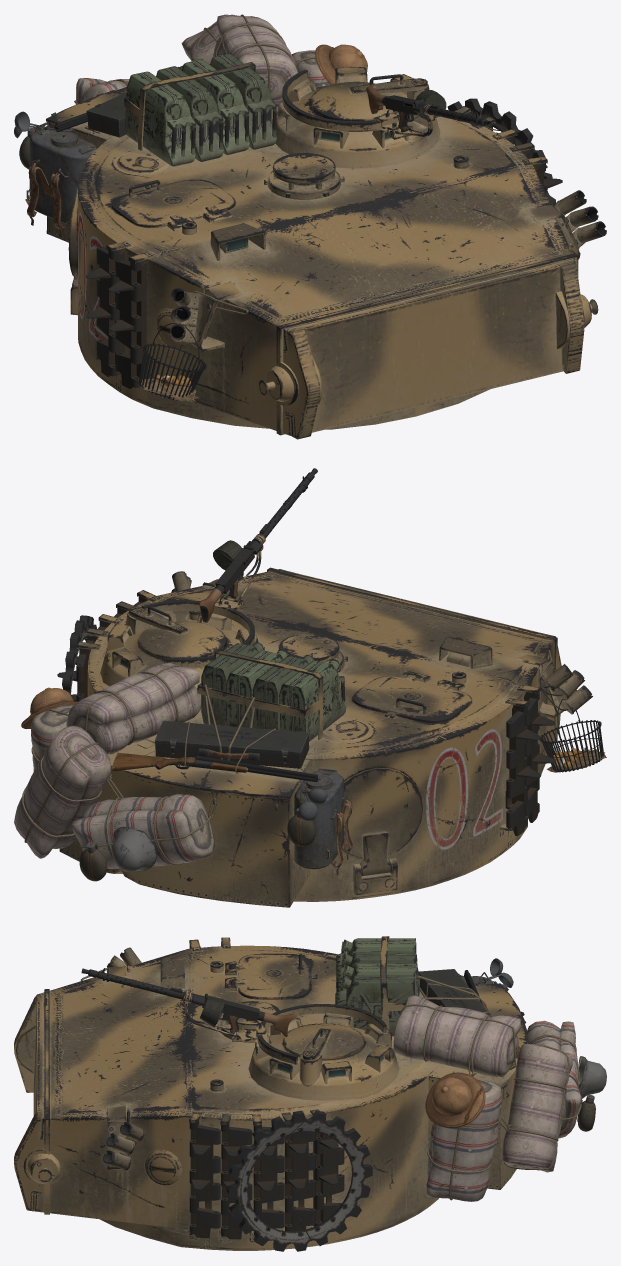
File: Tiger I_Skin_Turret.fbx
3 renders of one model, top to bottom at view 1: azimuth 30°, elevation 25°; view 2: azimuth 150°, elevation 25°; view 3: azimuth 270°, elevation 25°, orthographic. The views are drawn at different scales.
Visible parts, largest first — view 1: german\G04_PzVI_Tiger_I\_skins\G04_PzVI_Tiger_I_E_3DSt\_1364, german\G04_PzVI_Tiger_I\_skins\G04_PzVI_Tiger_I_E_3DSt\_f27c; view 2: german\G04_PzVI_Tiger_I\_skins\G04_PzVI_Tiger_I_E_3DSt\_1364, german\G04_PzVI_Tiger_I\_skins\G04_PzVI_Tiger_I_E_3DSt\_f27c; view 3: german\G04_PzVI_Tiger_I\_skins\G04_PzVI_Tiger_I_E_3DSt\_1364, german\G04_PzVI_Tiger_I\_skins\G04_PzVI_Tiger_I_E_3DSt\_f27c.
Part boxes in pixels (x1,y1,x2,y2): german\G04_PzVI_Tiger_I\_skins\G04_PzVI_Tiger_I_E_3DSt\_1364: (46,62,606,439); german\G04_PzVI_Tiger_I\_skins\G04_PzVI_Tiger_I_E_3DSt\_f27c: (14,14,555,401); german\G04_PzVI_Tiger_I\_skins\G04_PzVI_Tiger_I_E_3DSt\_1364: (57,468,592,907); german\G04_PzVI_Tiger_I\_skins\G04_PzVI_Tiger_I_E_3DSt\_f27c: (14,615,606,881); german\G04_PzVI_Tiger_I\_skins\G04_PzVI_Tiger_I_E_3DSt\_1364: (14,936,527,1250); german\G04_PzVI_Tiger_I\_skins\G04_PzVI_Tiger_I_E_3DSt\_f27c: (80,938,606,1251).
Size of the model in its own units: 2.77 by 1.47 by 3.37.
Materials: 2 (2 with a texture image).
